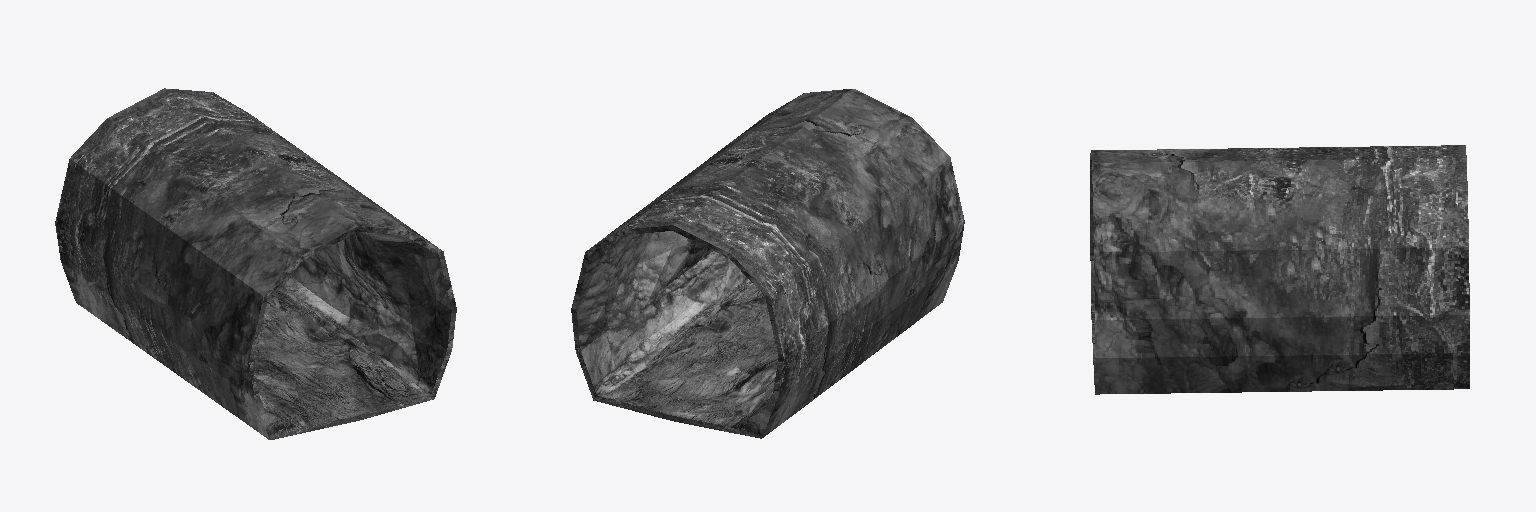
3 views of the same model, side by side, from view 1: azimuth 30°, elevation 25°; view 2: azimuth 150°, elevation 25°; view 3: azimuth 270°, elevation 25° (orthographic).
Parts seen in each view (by area): view 1: cavecorridor3; view 2: cavecorridor3; view 3: cavecorridor3.
Part boxes in pixels (x1,y1,x2,y2): cavecorridor3: (55, 88, 456, 439); cavecorridor3: (571, 89, 964, 438); cavecorridor3: (1090, 145, 1469, 394).
Size of the model in its own units: 105 by 91.67 by 160.
1 materials, 1 textured.